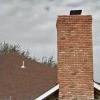Chimney: (49, 6, 100, 99)
